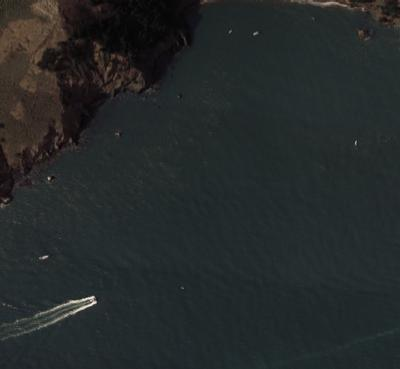Ships: (81, 287, 107, 321), (32, 245, 59, 265), (343, 132, 366, 155)
